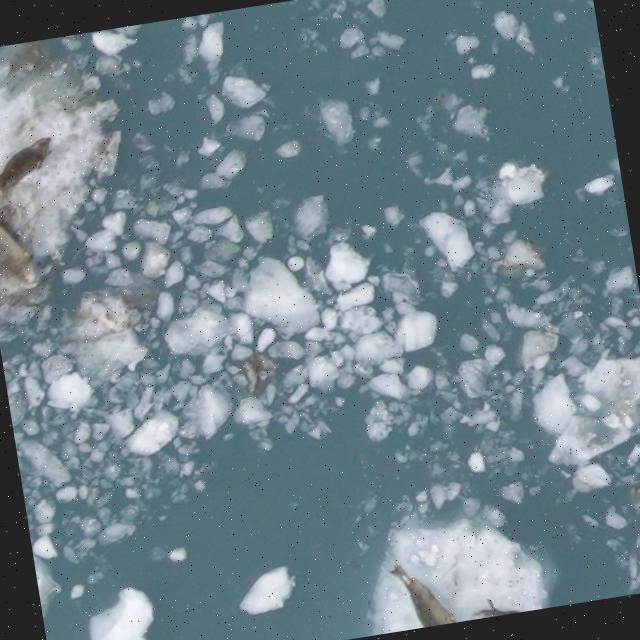seal: (380, 558, 460, 640), (0, 127, 63, 204), (0, 211, 39, 289), (473, 604, 522, 620)
